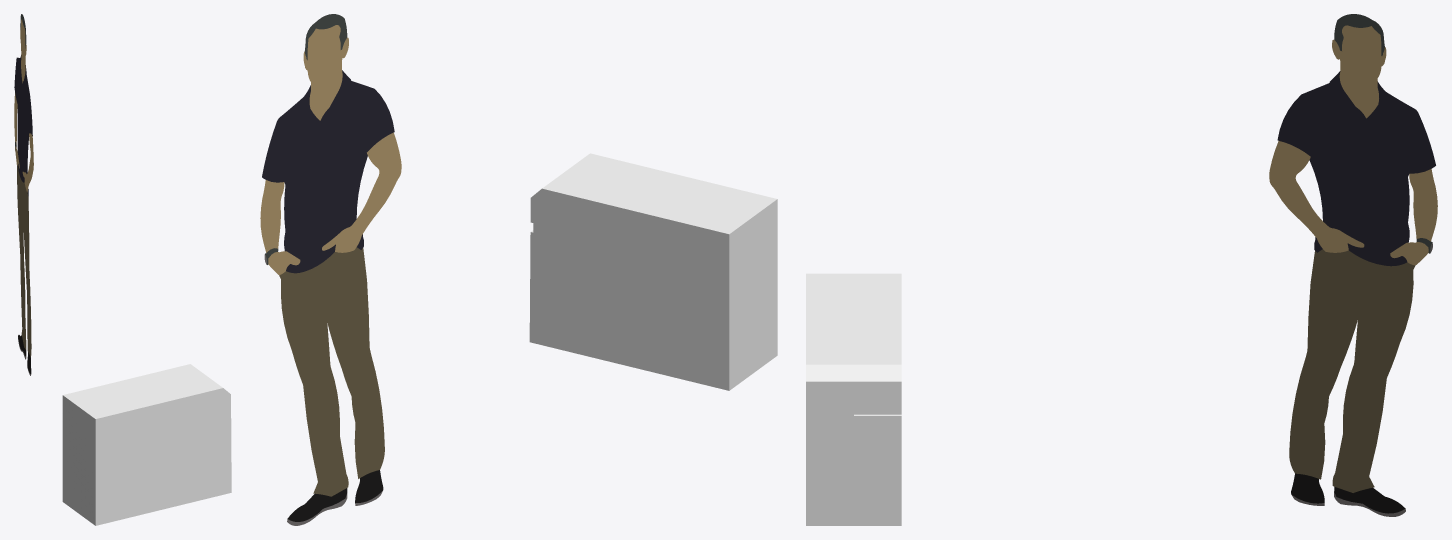
The model's file is computer.dae.
The picture shows the model from 3 angles, left to right: view 1: azimuth 30°, elevation 25°; view 2: azimuth 150°, elevation 25°; view 3: azimuth 270°, elevation 25°; orthographic projection. The views are drawn at different scales.
Parts seen in each view (by area): view 1: SketchUp, Chris (×4); view 2: SketchUp, Chris (×9); view 3: Chris (×9), SketchUp.
Part boxes in pixels (x1,y1,x2,y2): SketchUp: (62, 364, 231, 525); Chris (×4): (14, 19, 33, 357); SketchUp: (529, 153, 777, 390); Chris (×9): (260, 14, 401, 521); Chris (×9): (1269, 14, 1437, 513); SketchUp: (806, 273, 901, 525).
Bounding box in the file's own units: 28.92 × 79.82 × 69.5.
